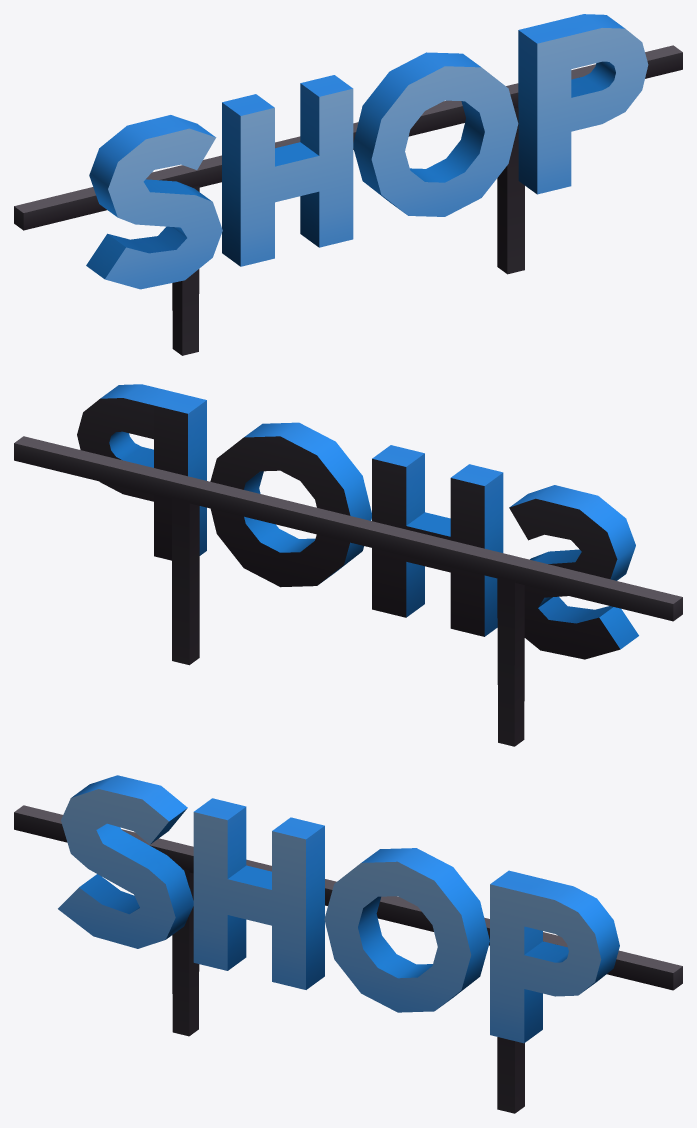
The model's file is Title_3B.fbx.
3 views of the same model, one above another, from view 1: azimuth 30°, elevation 25°; view 2: azimuth 150°, elevation 25°; view 3: azimuth 330°, elevation 25° (orthographic).
Parts seen in each view (by area): view 1: Title_3B, Title_Addon_3B; view 2: Title_3B, Title_Addon_3B; view 3: Title_3B, Title_Addon_3B.
Part boxes in pixels (bbox=[...]): Title_3B: bbox=[86, 14, 648, 289]; Title_Addon_3B: bbox=[14, 45, 682, 355]; Title_3B: bbox=[77, 384, 638, 659]; Title_Addon_3B: bbox=[14, 436, 682, 746]; Title_3B: bbox=[58, 775, 619, 1043]; Title_Addon_3B: bbox=[14, 805, 682, 1113].
Bounding box in the file's own units: 4.05 × 1.43 × 0.3053.
